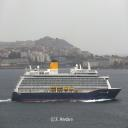cruises: (11, 61, 124, 104)
